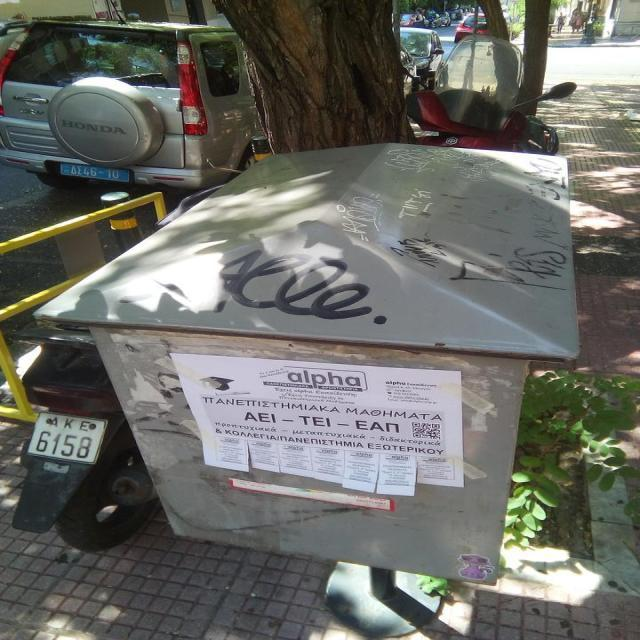nonspitting: (210, 244, 386, 329), (446, 246, 565, 290), (386, 148, 504, 182), (335, 194, 382, 242), (388, 234, 444, 268), (397, 188, 433, 218)
